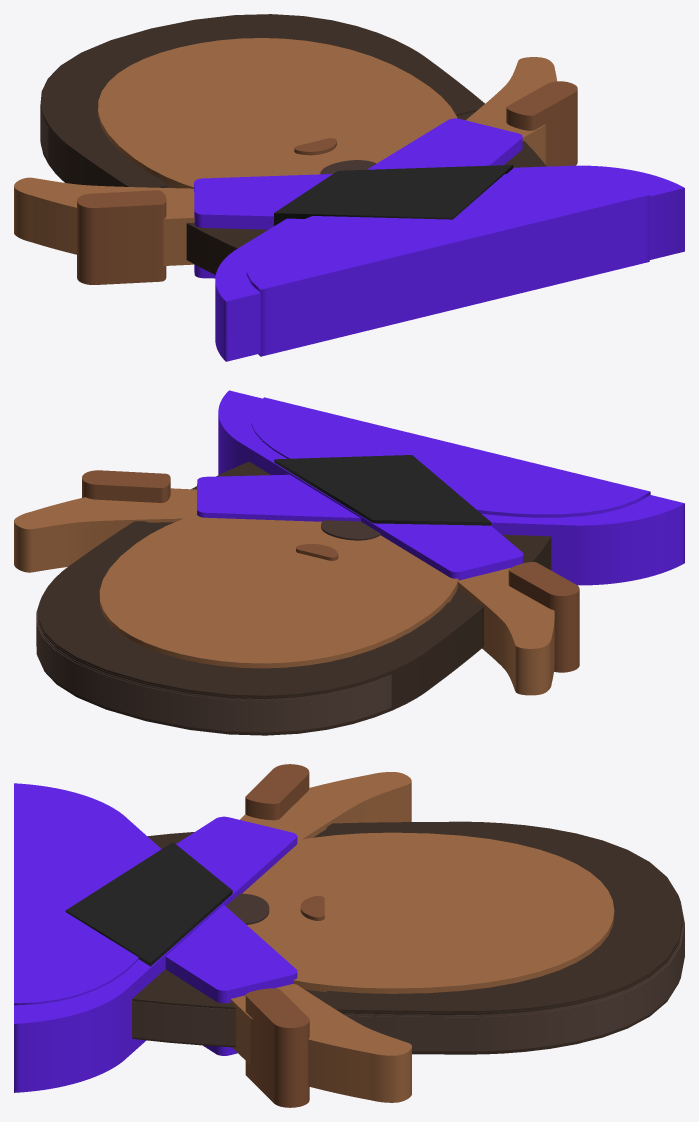
The model's file is emoji_u1f645_1f3fe_200d_2640.glb.
The picture shows the model from 3 angles, top to bottom: view 1: azimuth 30°, elevation 25°; view 2: azimuth 150°, elevation 25°; view 3: azimuth 270°, elevation 25°; orthographic projection. The views are drawn at different scales.
Visible parts, largest first — view 1: emoji_u1f645_1f3fe_200d_2640; view 2: emoji_u1f645_1f3fe_200d_2640; view 3: emoji_u1f645_1f3fe_200d_2640.
Boxes of the visible parts, x1,y1,x2,y2 form: emoji_u1f645_1f3fe_200d_2640: (14, 14, 684, 361); emoji_u1f645_1f3fe_200d_2640: (14, 390, 684, 735); emoji_u1f645_1f3fe_200d_2640: (14, 764, 684, 1107).
Size of the model in its own units: 0.0334 by 0.0046 by 0.0335.
